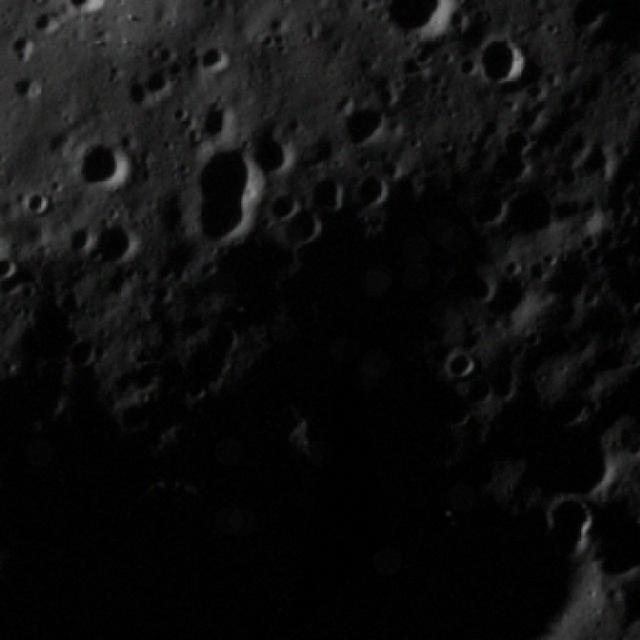crater: (176, 143, 267, 243), (462, 29, 542, 96), (326, 91, 402, 160), (542, 488, 606, 560), (62, 136, 142, 190), (496, 176, 564, 238), (364, 0, 458, 40), (244, 114, 305, 174), (88, 211, 144, 267), (0, 68, 51, 108), (188, 37, 240, 74), (494, 120, 538, 162), (32, 0, 74, 43), (438, 348, 484, 383), (6, 34, 40, 64), (58, 0, 118, 14), (0, 255, 31, 280)
